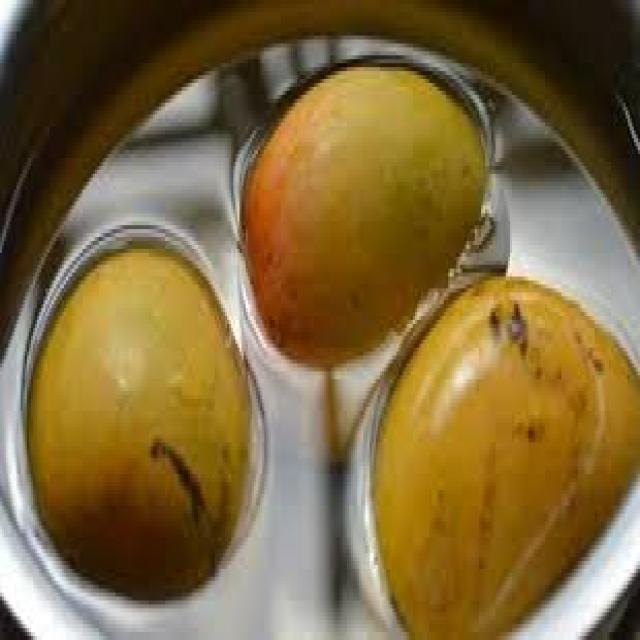Mango: (369, 273, 638, 636), (27, 233, 252, 597), (240, 62, 494, 368)
